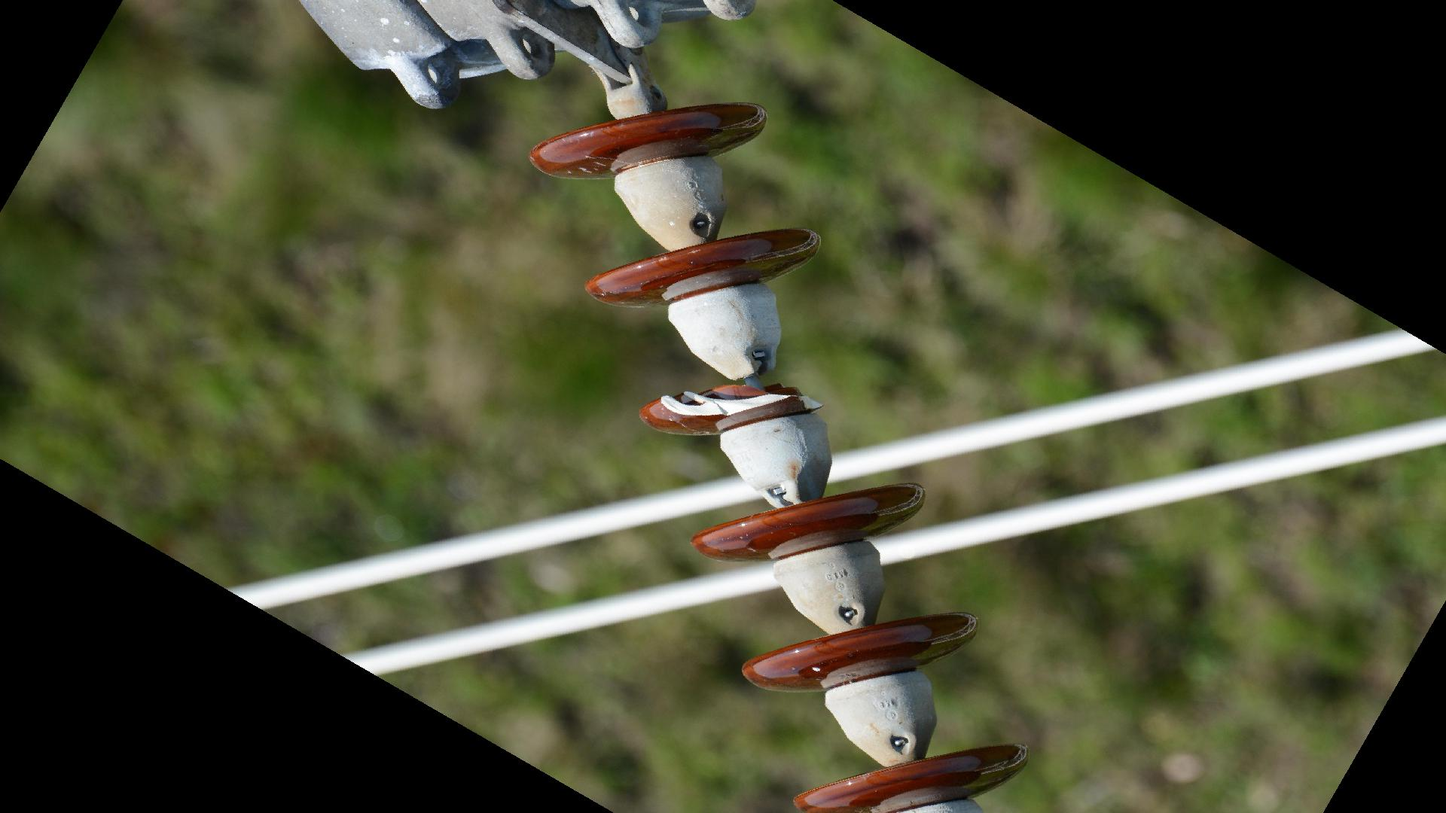insulator: (523, 96, 1040, 813)
insulator_breakage: (651, 377, 826, 430)
